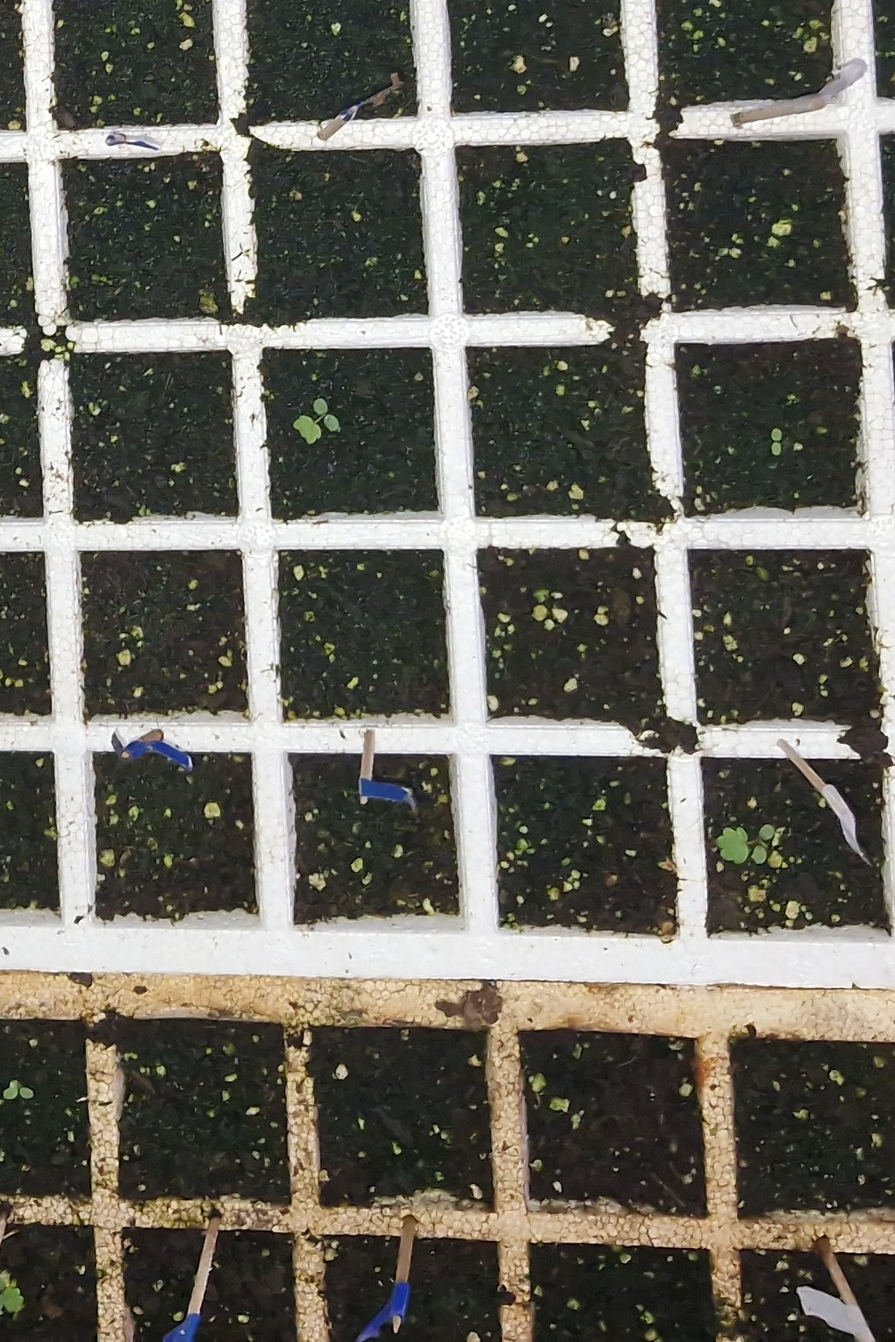Folha: (717, 827, 748, 864), (294, 415, 321, 444), (752, 845, 766, 864), (324, 414, 339, 431), (759, 825, 774, 840), (314, 399, 327, 414), (771, 442, 781, 455)
Germinacao: (718, 825, 775, 864), (293, 399, 338, 443), (772, 429, 782, 455)
